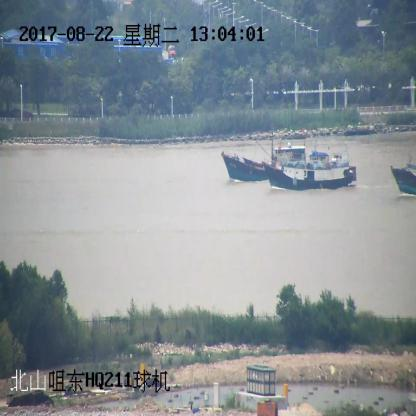Fishing Boat: (261, 146, 357, 189), (221, 144, 306, 181), (393, 162, 415, 197)
